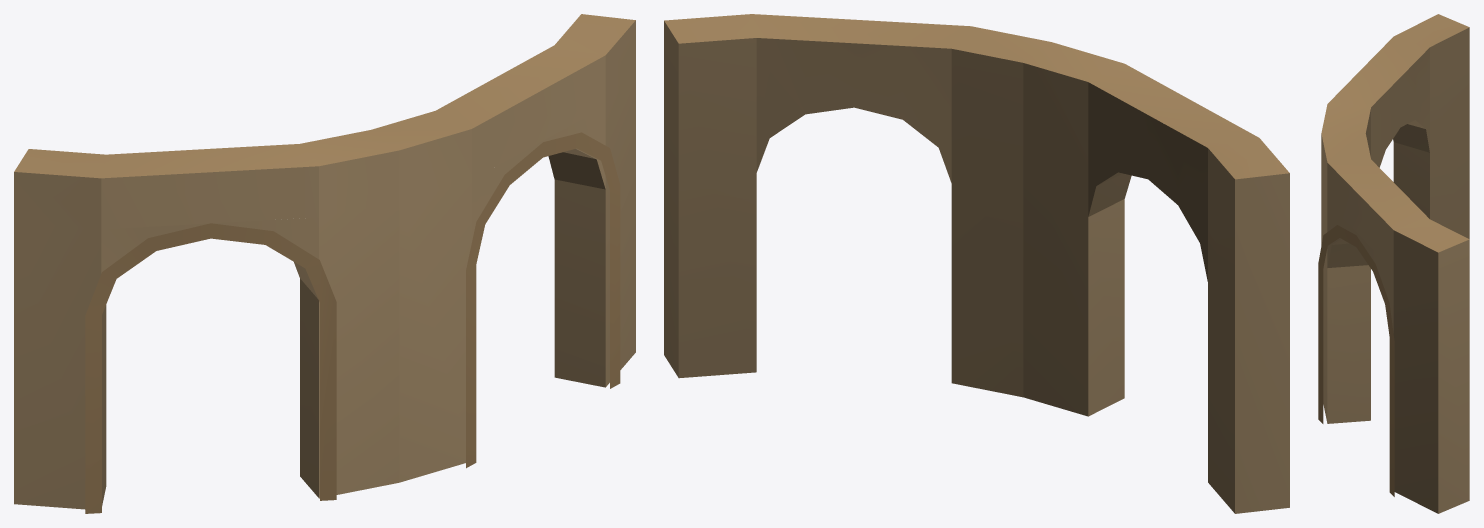
File: dome.drum_arch.sandstone.glb
3 views of the same model, side by side, from view 1: azimuth 30°, elevation 25°; view 2: azimuth 150°, elevation 25°; view 3: azimuth 270°, elevation 25° (orthographic). The views are drawn at different scales.
Parts seen in each view (by area): view 1: dome_drum_arch_sandstone; view 2: dome_drum_arch_sandstone; view 3: dome_drum_arch_sandstone.
Boxes of the visible parts, bbox=[...] form: dome_drum_arch_sandstone: bbox=[14, 14, 635, 513]; dome_drum_arch_sandstone: bbox=[664, 14, 1289, 513]; dome_drum_arch_sandstone: bbox=[1318, 14, 1469, 513].
Size of what is drawn, in the model's own units: 5.09 by 2.6 by 1.37.
